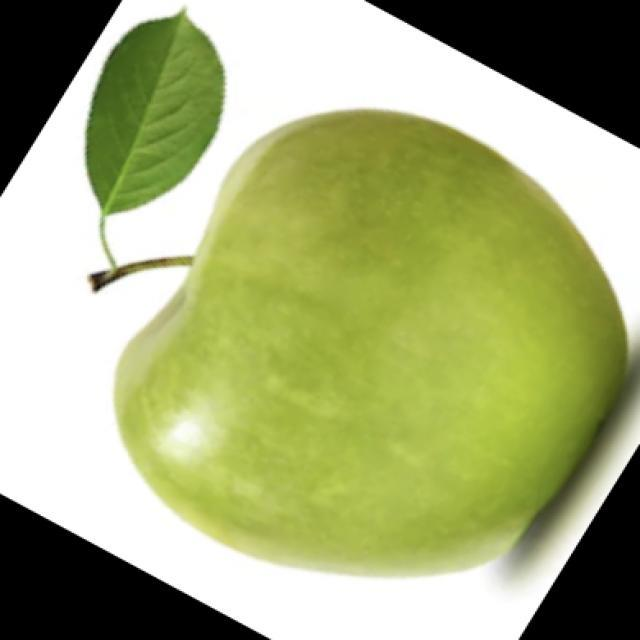Fresh Apple: (127, 117, 613, 563)
